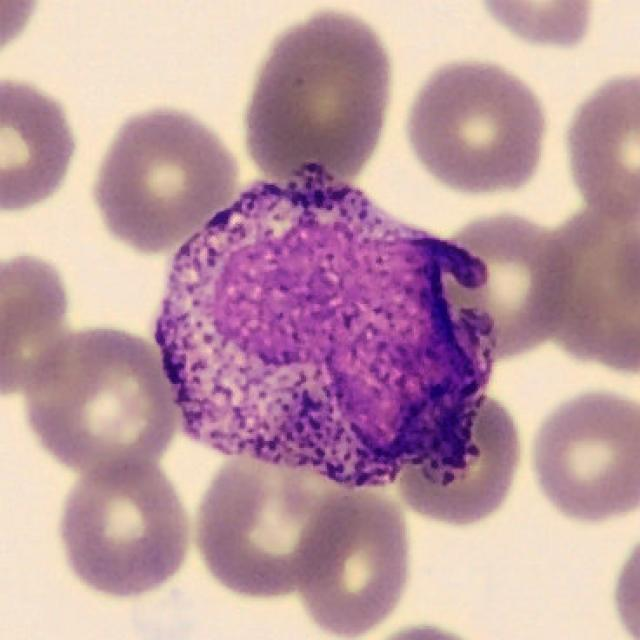Promielocito: (153, 162, 497, 491)
